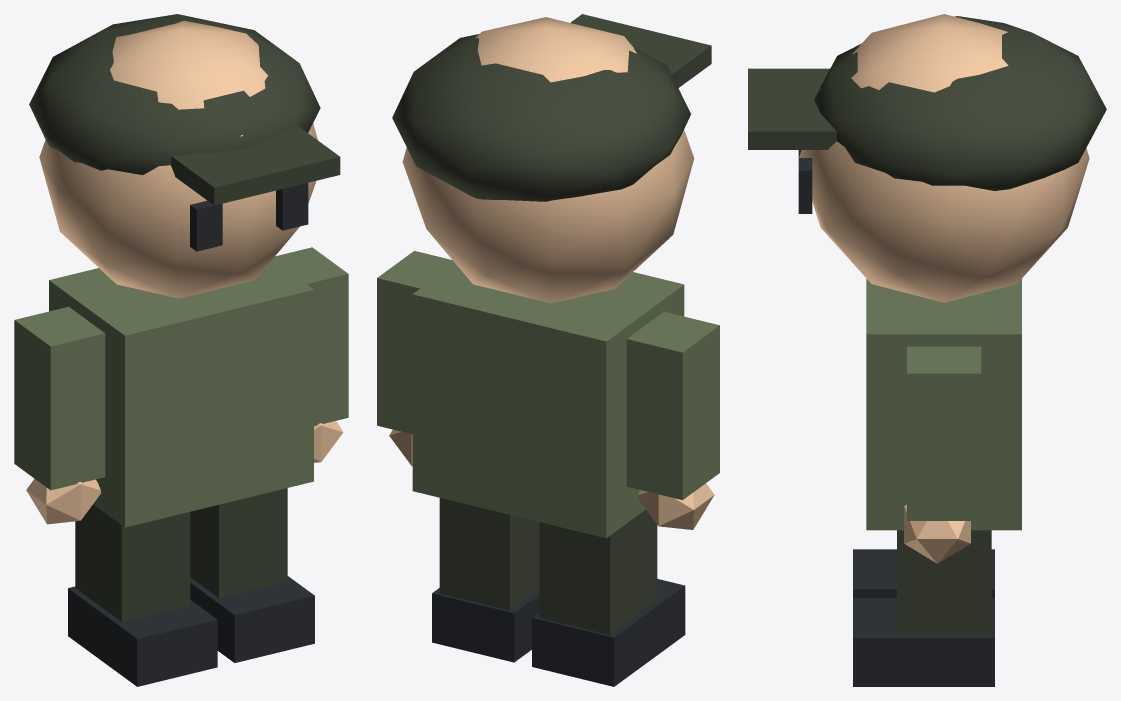
The model's file is npc_a.glb.
The picture shows the model from 3 angles, left to right: view 1: azimuth 30°, elevation 25°; view 2: azimuth 150°, elevation 25°; view 3: azimuth 270°, elevation 25°; orthographic projection. The views are drawn at different scales.
Visible parts, largest first — view 1: head, torso, legR, armR, legL, armL; view 2: head, torso, legR, armR, legL, armL; view 3: head, torso, legL, armL, legR.
Boxes of the visible parts, left/top/right/bottom form: head: left=29, top=14, right=340, bottom=298; torso: left=49, top=259, right=313, bottom=527; legR: left=68, top=504, right=217, bottom=686; armR: left=14, top=306, right=105, bottom=524; legL: left=190, top=488, right=314, bottom=662; armL: left=272, top=247, right=348, bottom=462; head: left=392, top=14, right=711, bottom=303; torso: left=412, top=263, right=684, bottom=538; legR: left=532, top=510, right=685, bottom=686; armR: left=626, top=311, right=719, bottom=529; legL: left=432, top=498, right=539, bottom=662; armL: left=377, top=251, right=454, bottom=466; head: left=748, top=14, right=1106, bottom=302; torso: left=866, top=278, right=1021, bottom=530; legL: left=853, top=530, right=994, bottom=686; armL: left=904, top=346, right=981, bottom=563; legR: left=853, top=549, right=994, bottom=597.
Size of the model in its own units: 0.52 by 1.01 by 0.5305.
